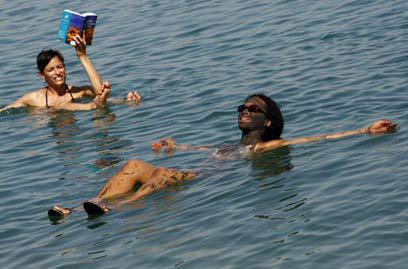swimmer: (45, 86, 398, 227), (9, 34, 144, 122)
